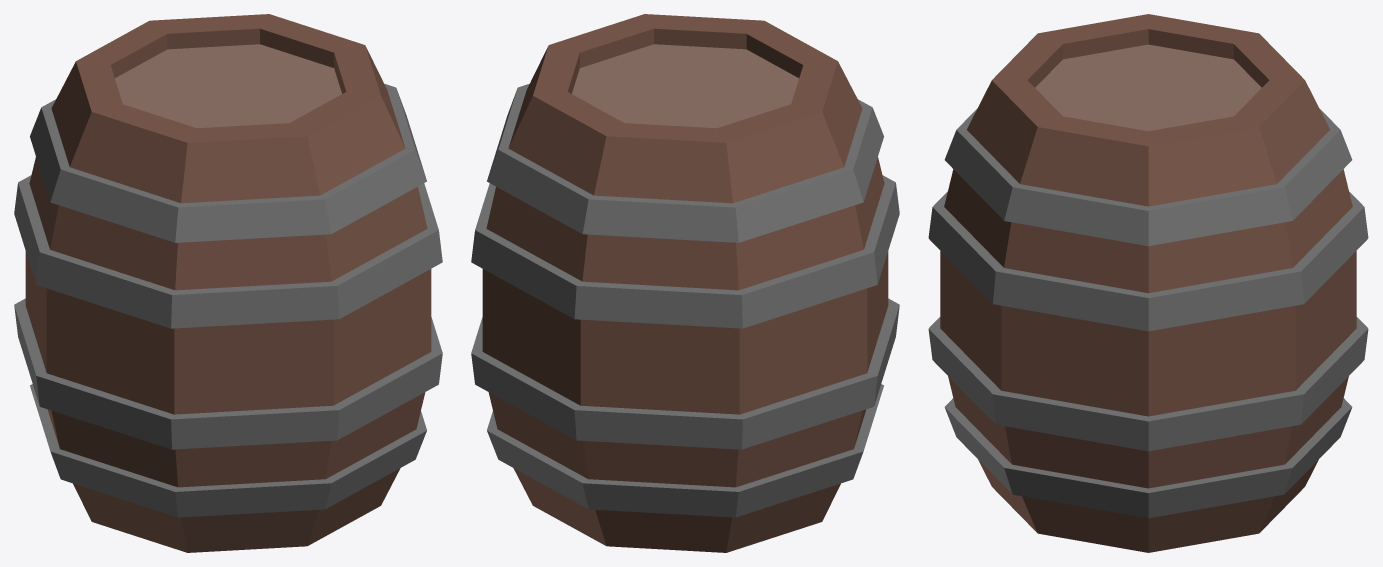
File: Ship_008.glb
3 renders of one model, left to right at view 1: azimuth 30°, elevation 25°; view 2: azimuth 150°, elevation 25°; view 3: azimuth 270°, elevation 25°, orthographic.
Visible parts, largest first — view 1: Ship_008; view 2: Ship_008; view 3: Ship_008.
Boxes of the visible parts, box(x1,y1,x2,y2) form: Ship_008: box(14, 14, 442, 552); Ship_008: box(471, 14, 899, 552); Ship_008: box(928, 14, 1368, 552).
Size of the model in its own units: 0.9202 by 0.9381 by 0.9201.
1 material, 1 textured.
